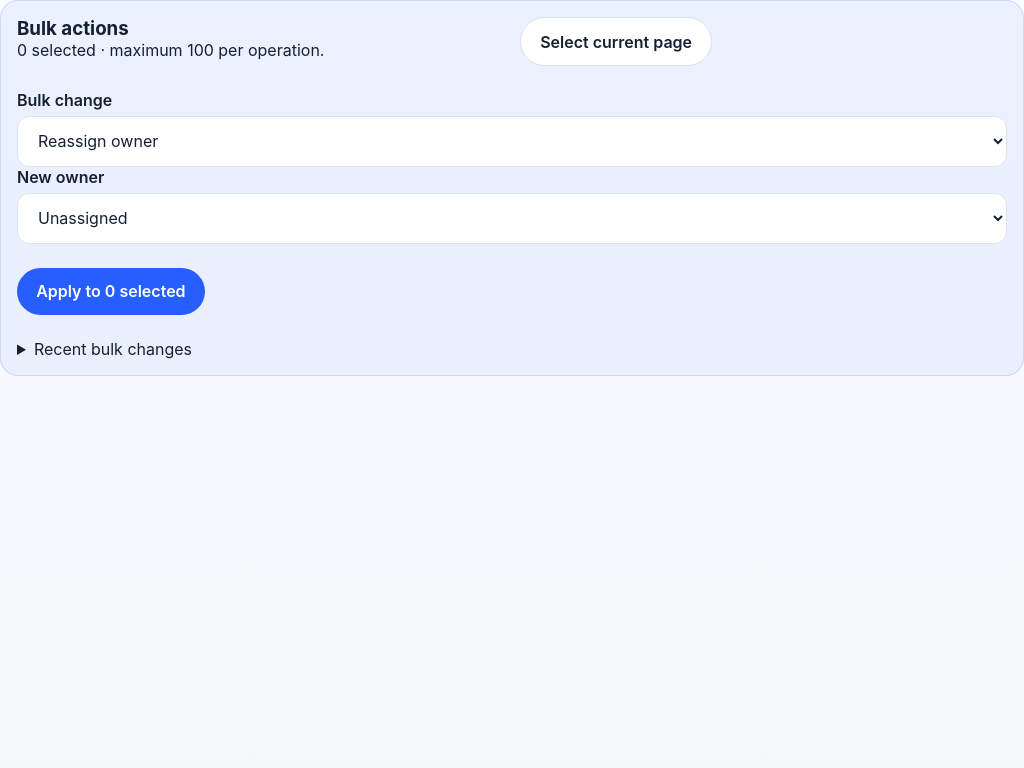
Test: bulk actions › surfaces persistent history and safely requests rollback
What coordinates should you click on to do the following:
click the heading "Recent bulk changes"
I would click on:
 (113, 349)
Its box is [34,339,192,359].
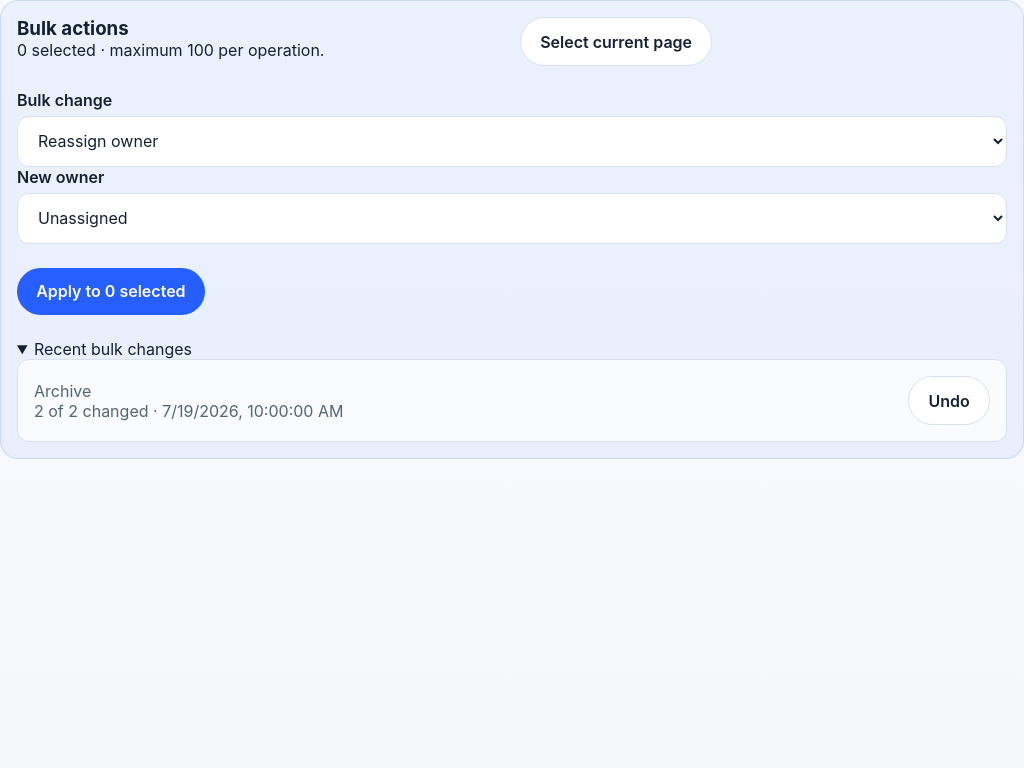
What coordinates should you click on to do the following:
click the button "Undo"
I would click on:
 (949, 400)
Its box is [908,376,990,425].
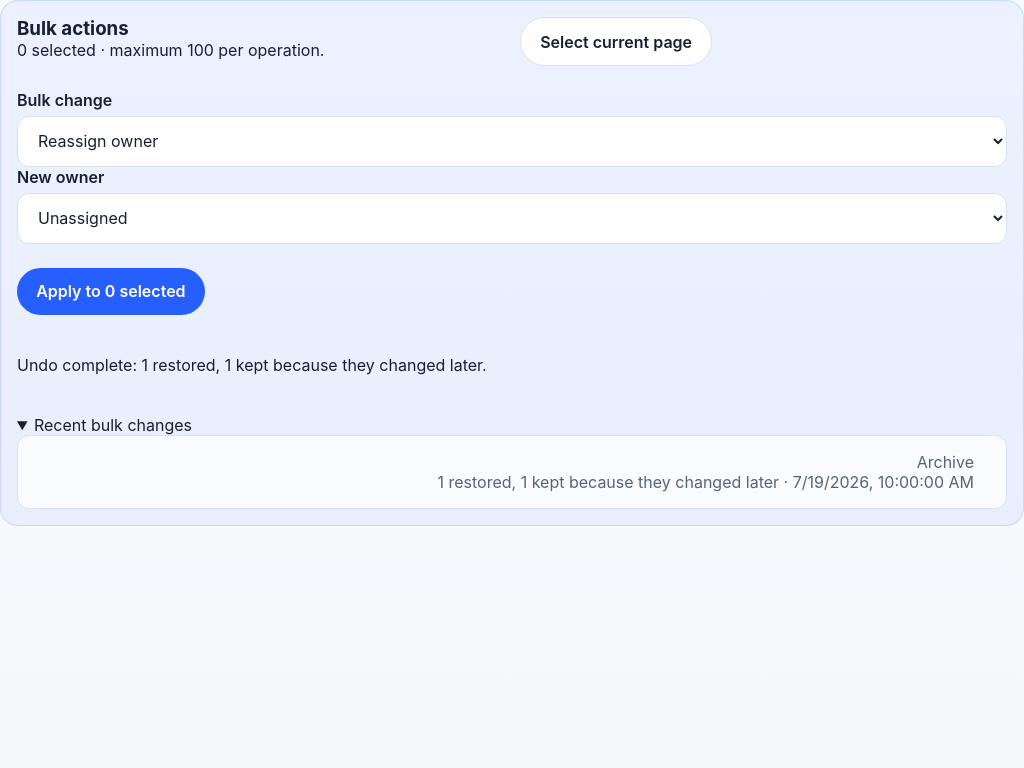
Expected: the text "Undo complete: 1 restored, 1 kept because they changed later." is shown, [17,355,487,375]
